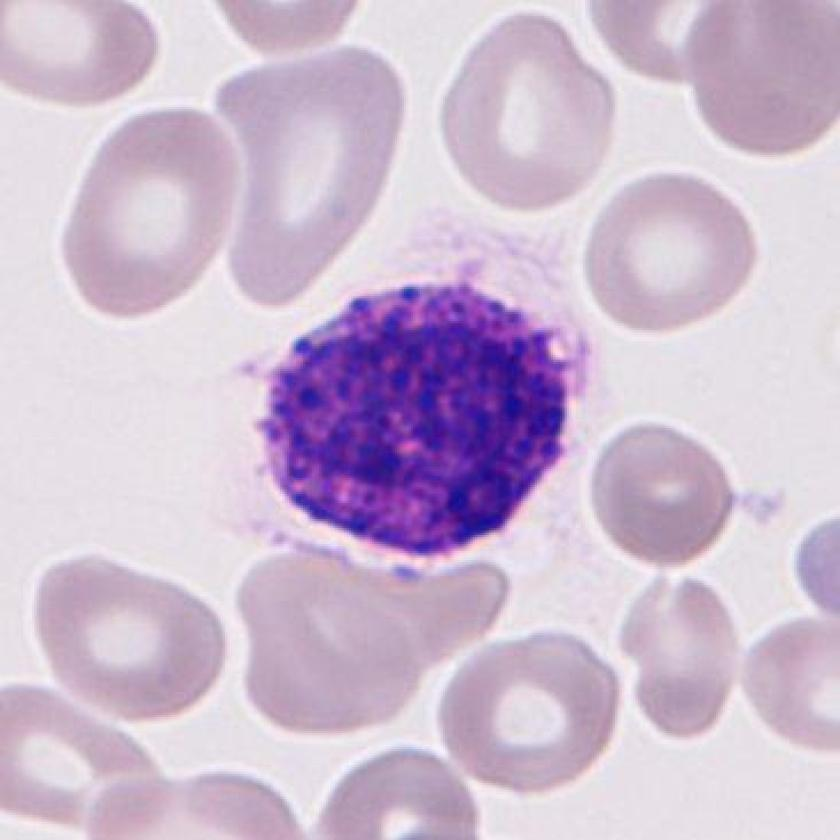basophil: (256, 277, 584, 566)
